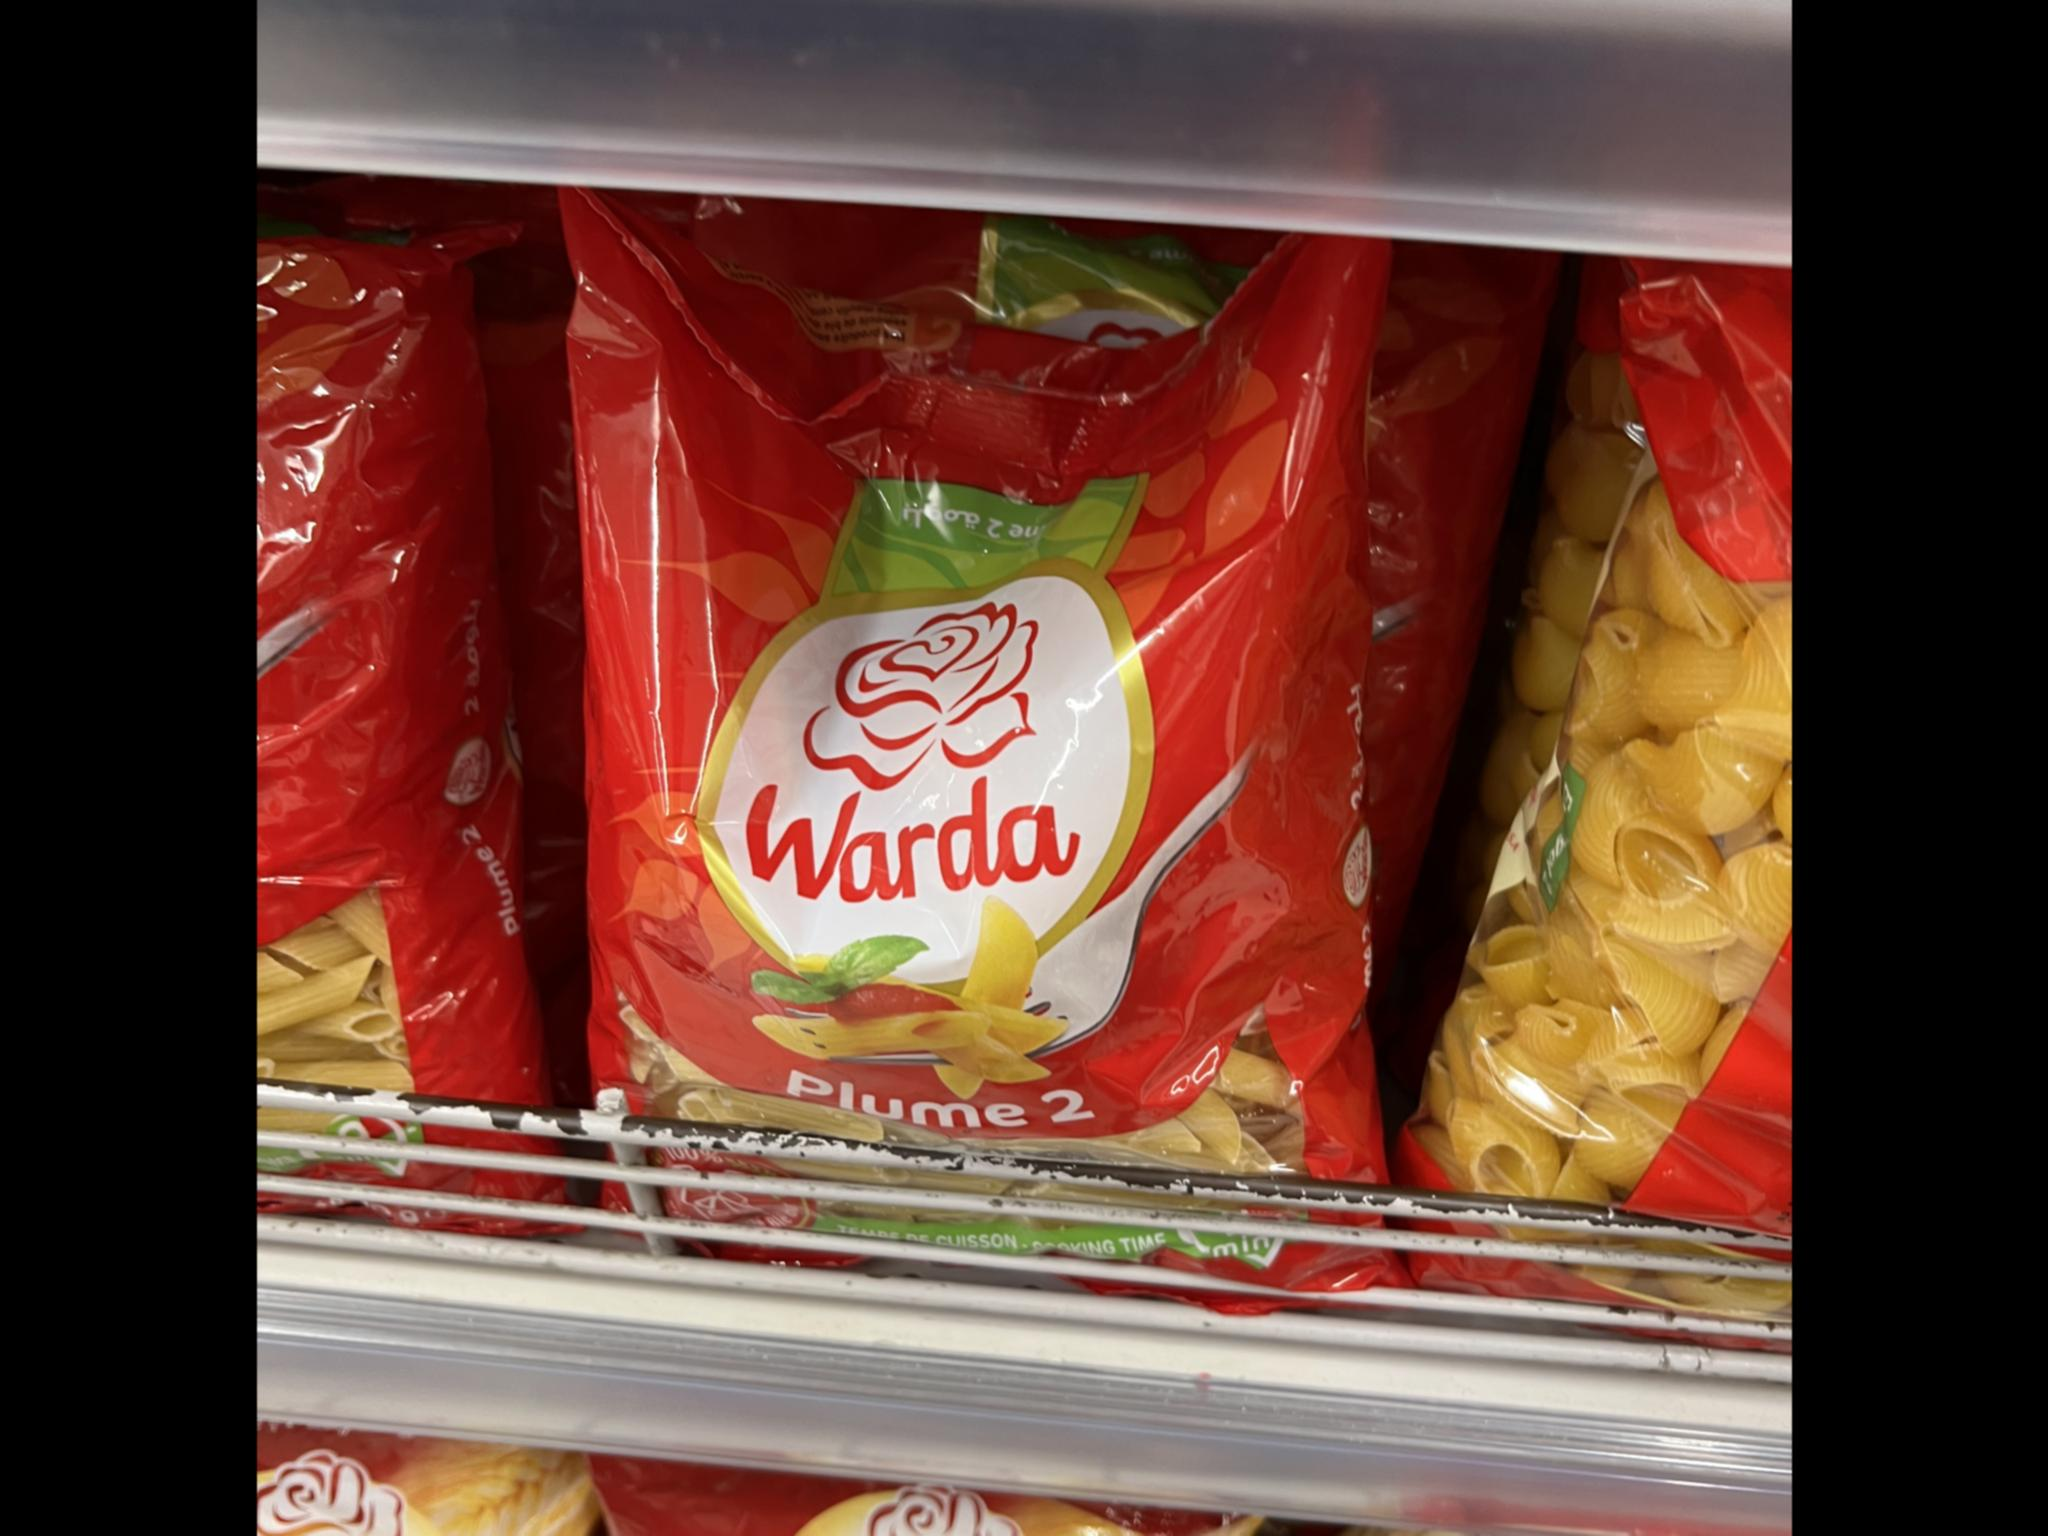plume: (548, 202, 1366, 1273)
